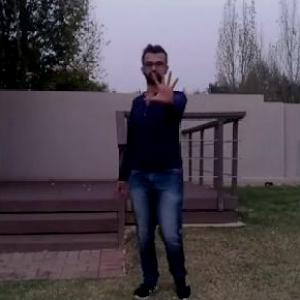follow_hand: (142, 66, 181, 106)
